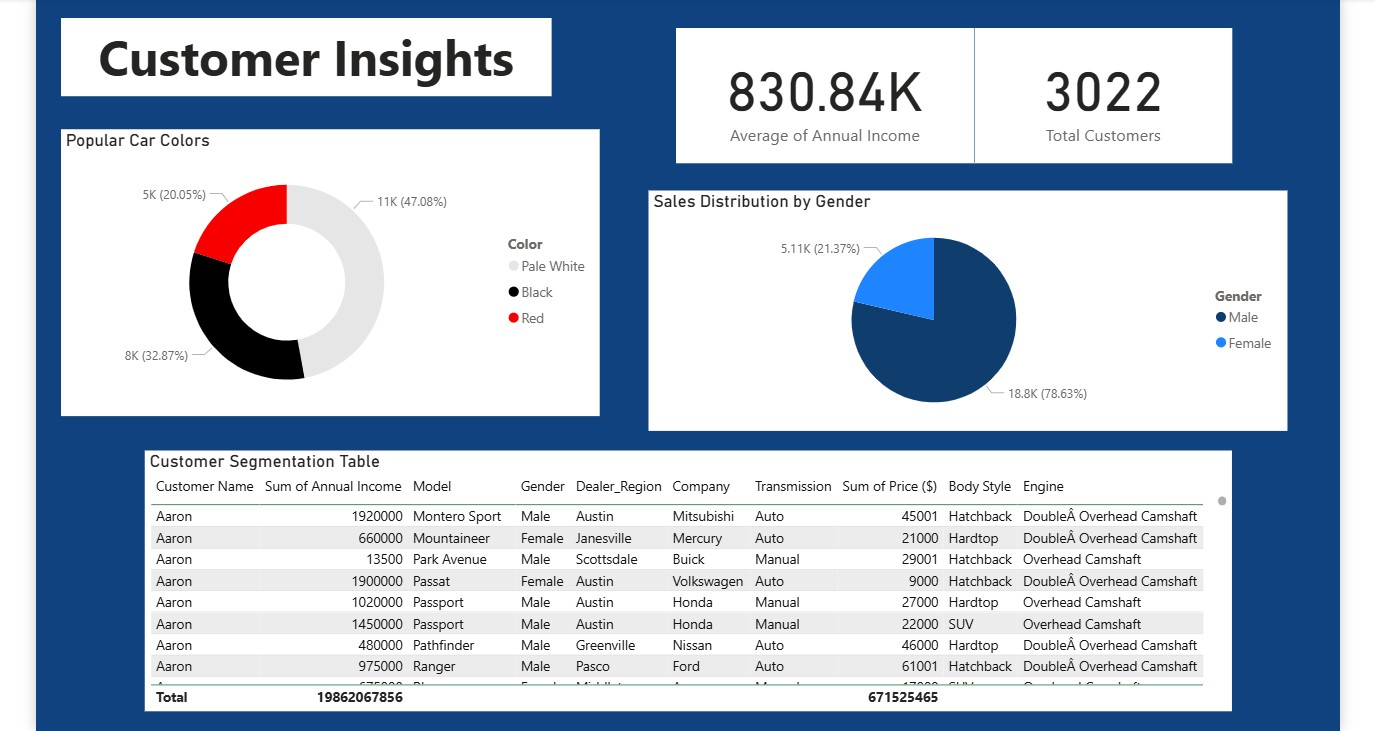

Layout of this report page (visuals, bound fields, positions):
{"tool":"powerbi","page":{"name":"Customer Insights","canvas":[1280,720],"ordinal":2},"visuals":[{"type":"textbox","box":[24.3,20,481.4,77.1],"z":1000},{"type":"card","fields":{"Values":["car sales.Total Customers"]},"box":[921.4,30,252.9,132.9],"z":2000},{"type":"pieChart","title":" Sales Distribution by Gender","fields":{"Category":["car sales.Gender"],"Y":["CountNonNull(car sales.Customer Name)"]},"box":[601.4,188.6,627.1,235.7],"z":3000},{"type":"card","title":"Average Annual Income of Customers","fields":{"Values":["Avg(car sales.Annual Income)"]},"box":[628.6,30,292.9,132.9],"z":4000},{"type":"donutChart","title":"Popular Car Colors","fields":{"Category":["car sales.Color"],"Y":["car sales.Sale Qty"]},"box":[24.3,128.6,528.6,281.4],"z":5000},{"type":"tableEx","title":"Customer Segmentation Table","fields":{"Values":["car sales.Customer Name","Sum(car sales.Annual Income)","car sales.Model","car sales.Gender","car sales.Dealer_Region","car sales.Company","car sales.Transmission","Sum(car sales.Price ($))","car sales.Body Style","car sales.Engine"]},"box":[107.1,444.3,1067.1,255.7],"z":6000}]}

Visuals, with their boxes on the page's 1280x720 design canvas (x1, y1, x2, y2). These are canvas units, not pixel positions in the 1375x731 screenshot, which may show the page scaled, cropped or inside an application window:
textbox: <region>24, 20, 506, 97</region>
card - car sales.Total Customers: <region>921, 30, 1174, 163</region>
" Sales Distribution by Gender" pieChart: <region>601, 189, 1228, 424</region>
"Average Annual Income of Customers" card: <region>629, 30, 922, 163</region>
"Popular Car Colors" donutChart: <region>24, 129, 553, 410</region>
"Customer Segmentation Table" tableEx: <region>107, 444, 1174, 700</region>
